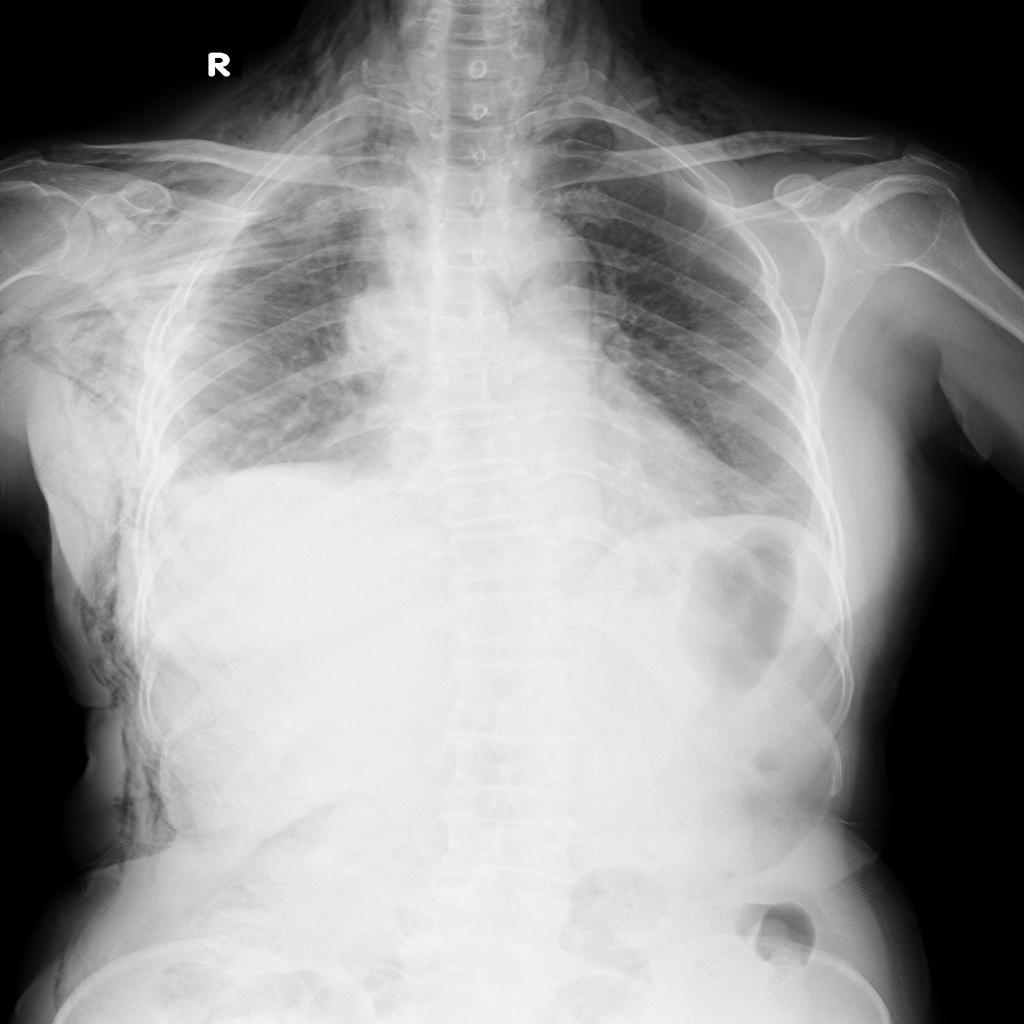Nodule: (342, 288, 424, 363), (729, 374, 746, 387)
